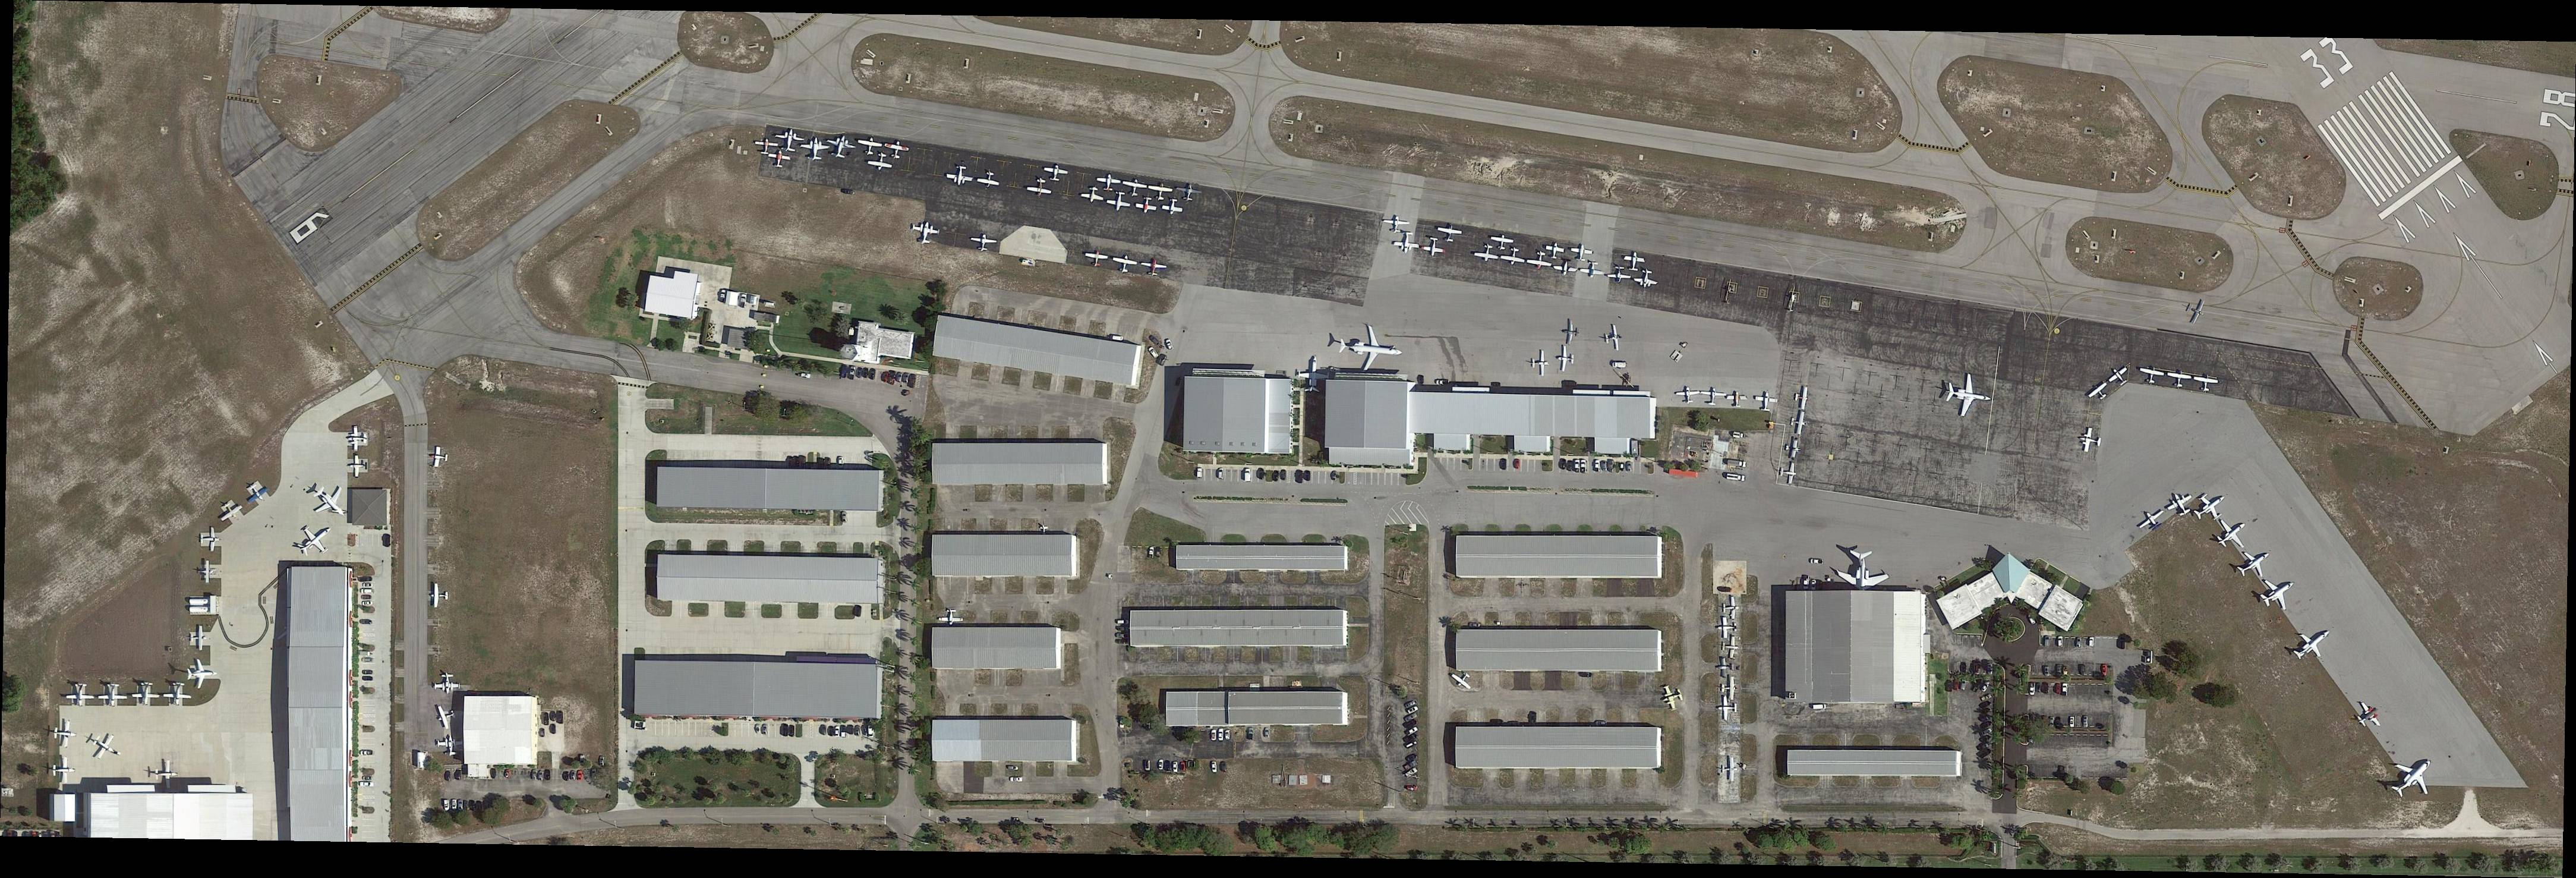helicopter: (1718, 280, 1738, 306), (1784, 286, 1802, 314), (1620, 372, 1635, 391)
large vehicle: (1727, 459, 1746, 469), (1727, 474, 1746, 482)
plane: (2382, 746, 2445, 809), (1337, 322, 1405, 375), (1942, 370, 1996, 421), (2254, 566, 2303, 618), (1833, 551, 1889, 597), (306, 477, 355, 526), (2206, 510, 2256, 559), (291, 516, 342, 564), (2287, 620, 2338, 668), (2233, 541, 2277, 587), (2187, 485, 2233, 528), (2351, 697, 2387, 735), (1298, 355, 1331, 393), (2134, 505, 2170, 538), (2162, 488, 2198, 521), (89, 728, 120, 763), (823, 132, 858, 161), (187, 658, 217, 689), (215, 497, 245, 526), (242, 477, 271, 506), (772, 128, 805, 155), (909, 220, 941, 247), (2105, 363, 2134, 391), (2183, 294, 2210, 326), (943, 164, 976, 189), (2078, 426, 2105, 455), (1659, 682, 1686, 712), (1392, 230, 1423, 255), (2086, 380, 2114, 406), (1449, 668, 1477, 694), (1104, 189, 1134, 214), (434, 702, 458, 732), (53, 720, 77, 750), (800, 138, 831, 161), (1111, 252, 1139, 276), (1633, 266, 1661, 291), (1139, 256, 1168, 280), (99, 684, 128, 707), (1500, 245, 1528, 268), (2137, 365, 2165, 388), (1436, 222, 1464, 245), (866, 151, 894, 174), (1027, 176, 1055, 199), (856, 135, 884, 158), (154, 760, 177, 788), (131, 682, 159, 705), (163, 682, 191, 705), (1382, 214, 1411, 235), (66, 684, 95, 705), (1147, 181, 1173, 204), (437, 735, 463, 758), (434, 674, 460, 697), (53, 758, 76, 784), (1603, 324, 1625, 352), (1699, 386, 1727, 408), (2192, 373, 2220, 395), (1120, 178, 1148, 199), (1042, 161, 1070, 183), (1175, 183, 1203, 204), (882, 140, 910, 161), (1526, 250, 1554, 271), (1421, 237, 1447, 258), (1474, 243, 1500, 265), (976, 169, 1002, 191), (347, 426, 368, 452), (1717, 695, 1738, 722), (1556, 345, 1576, 373), (2165, 370, 2193, 390), (969, 233, 997, 253), (1753, 391, 1778, 413), (1787, 411, 1809, 436), (1134, 196, 1158, 217), (200, 528, 222, 552), (1096, 173, 1122, 192), (1083, 248, 1109, 268), (430, 584, 450, 610), (1579, 260, 1605, 280), (1553, 258, 1579, 278), (347, 455, 368, 478), (1717, 617, 1738, 640), (1714, 656, 1735, 679), (1792, 386, 1812, 411), (1783, 436, 1802, 460), (1779, 462, 1799, 487), (767, 150, 792, 169), (1081, 186, 1106, 206), (1622, 252, 1646, 271), (1571, 243, 1595, 263), (1490, 233, 1515, 253), (1531, 350, 1549, 377), (189, 625, 207, 651), (938, 608, 964, 626), (1161, 197, 1185, 217), (1562, 321, 1580, 345), (1676, 386, 1700, 404), (1722, 635, 1740, 659), (754, 138, 779, 156), (1607, 266, 1633, 283), (430, 446, 449, 469), (1722, 597, 1740, 620), (1720, 677, 1738, 700), (1722, 758, 1738, 783), (1544, 242, 1566, 260), (197, 561, 214, 584), (1727, 391, 1748, 408)
